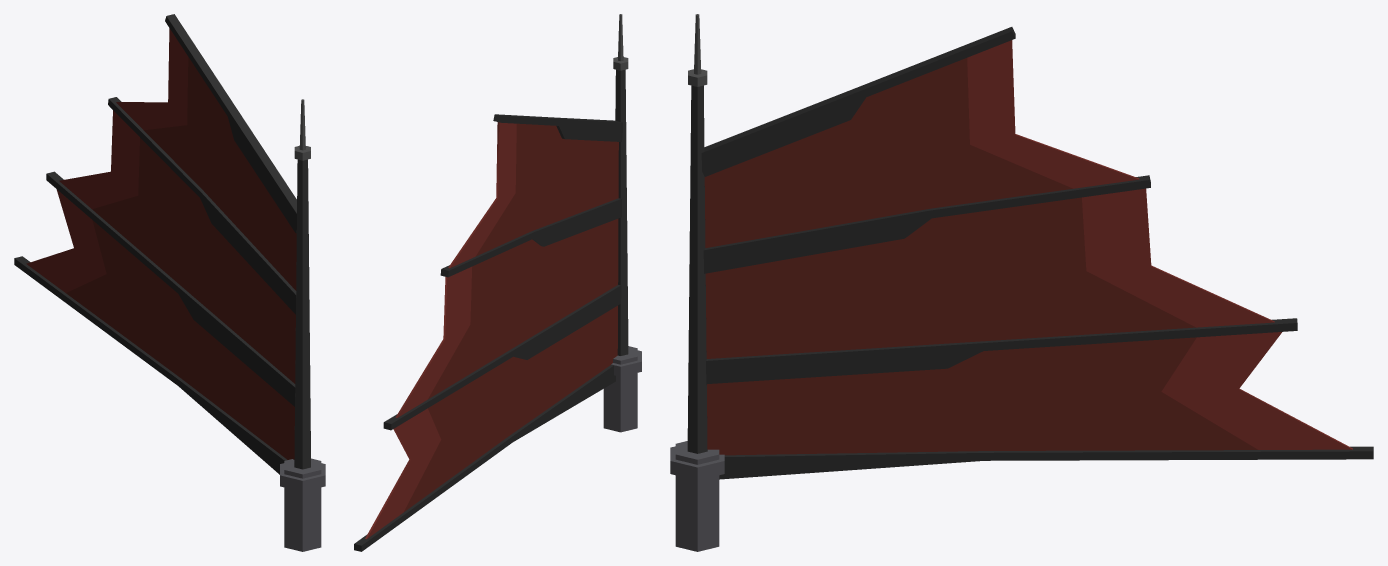
The model's file is worlds_SM_Veh_Vendor_Tug_01_Attach_Sail_01.gltf.
The picture shows the model from 3 angles, left to right: view 1: azimuth 30°, elevation 25°; view 2: azimuth 150°, elevation 25°; view 3: azimuth 270°, elevation 25°; orthographic projection. The views are drawn at different scales.
Visible parts, largest first — view 1: SM_Veh_Vendor_Tug_01_Attach_Sail_01; view 2: SM_Veh_Vendor_Tug_01_Attach_Sail_01; view 3: SM_Veh_Vendor_Tug_01_Attach_Sail_01.
Boxes of the visible parts, x1,y1,x2,y2 form: SM_Veh_Vendor_Tug_01_Attach_Sail_01: (14, 14, 325, 551); SM_Veh_Vendor_Tug_01_Attach_Sail_01: (354, 14, 641, 551); SM_Veh_Vendor_Tug_01_Attach_Sail_01: (670, 14, 1373, 551).
Size of the model in its own units: 0.4688 by 4.33 by 5.24.
Materials: 1 (1 with a texture image).
